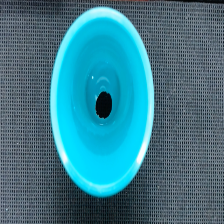hole: (95, 90, 111, 117)
